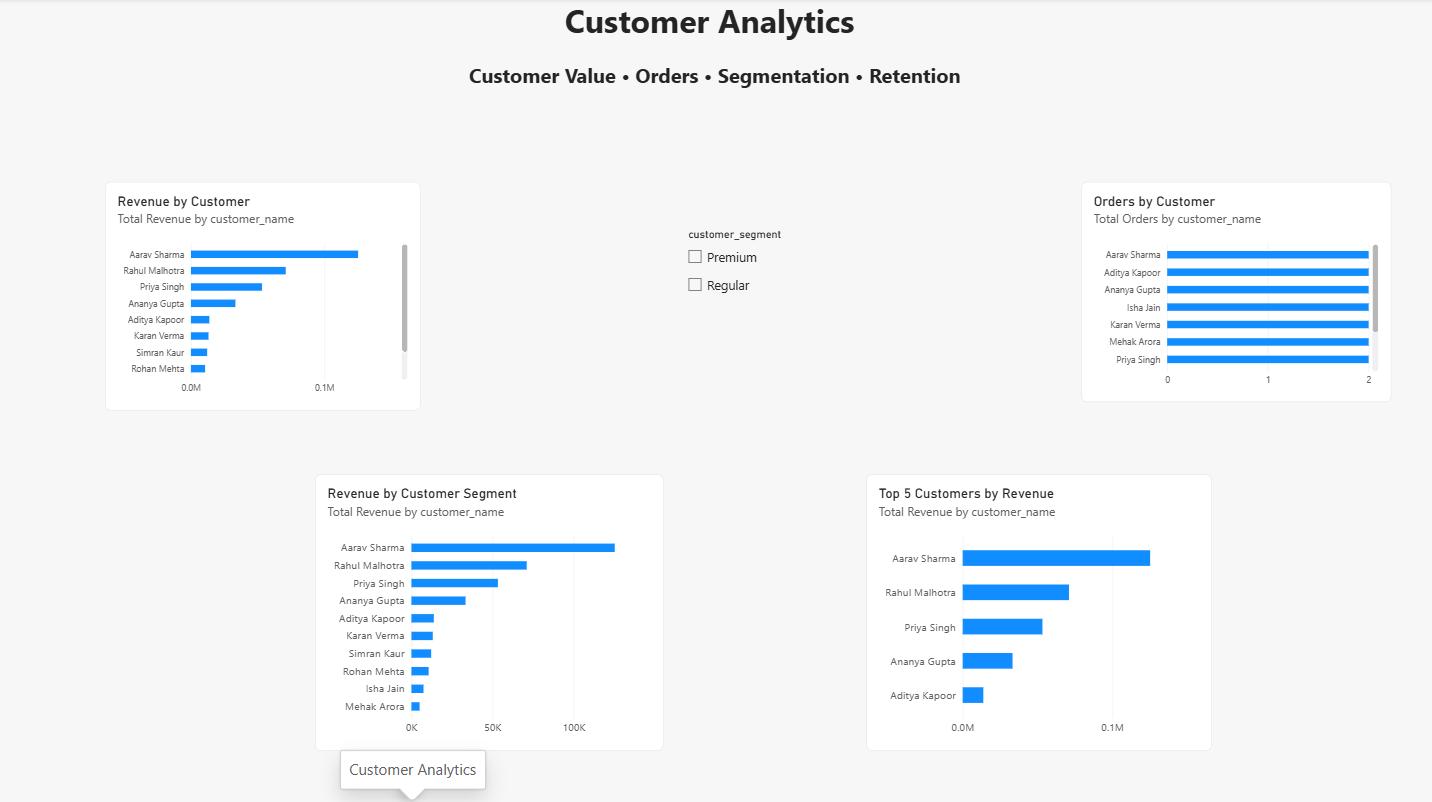

Layout of this report page (visuals, bound fields, positions):
{"tool":"powerbi","page":{"name":"Customer Analytics","canvas":[1920,1080],"ordinal":2},"visuals":[{"type":"clusteredBarChart","title":"Revenue by Customer","fields":{"Category":["ecommerce_analytics customers.customer_name"],"Y":["ecommerce_analytics order_details.Total Revenue"]},"box":[147.2,244.8,421.5,305.5],"z":0},{"type":"clusteredBarChart","title":"Orders by Customer","fields":{"Category":["ecommerce_analytics customers.customer_name"],"Y":["ecommerce_analytics orders.Total Orders"]},"box":[1450.3,244.8,414.1,294.5],"z":1},{"type":"clusteredBarChart","title":"Revenue by Customer Segment","fields":{"Category":["ecommerce_analytics customers.customer_name"],"Y":["ecommerce_analytics order_details.Total Revenue"]},"box":[427,636.8,465.6,369.9],"z":2},{"type":"clusteredBarChart","title":"Top 5 Customers by Revenue","fields":{"Category":["ecommerce_analytics customers.customer_name"],"Y":["ecommerce_analytics order_details.Total Revenue"]},"box":[1163.2,636.8,462,369.9],"z":3},{"type":"textbox","box":[66.3,0,1798.2,97.5],"z":4},{"type":"textbox","box":[66.3,84.7,1798.2,77.3],"z":5},{"type":"slicer","fields":{"Values":["ecommerce_analytics customers.customer_segment"]},"box":[918.4,307.4,279.8,182.2],"z":6}]}

Visuals, with their boxes in screenshot pixels (x1, y1, x2, y2), scaled from the page's 1920x1080 canvas onto the 1432x802 screenshot:
"Revenue by Customer" clusteredBarChart: (110,182,424,409)
"Orders by Customer" clusteredBarChart: (1082,182,1391,400)
"Revenue by Customer Segment" clusteredBarChart: (318,473,666,748)
"Top 5 Customers by Revenue" clusteredBarChart: (868,473,1212,748)
textbox: (49,0,1391,72)
textbox: (49,63,1391,120)
slicer - ecommerce_analytics customers.customer_segment: (685,228,894,364)
